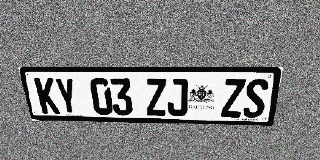0: (89, 78, 113, 115)
3: (110, 78, 133, 115)
J: (167, 78, 188, 116)
K: (34, 78, 60, 114)
S: (242, 79, 269, 118)
Y: (54, 78, 79, 114)
Z: (221, 79, 246, 117), (145, 78, 167, 116)
